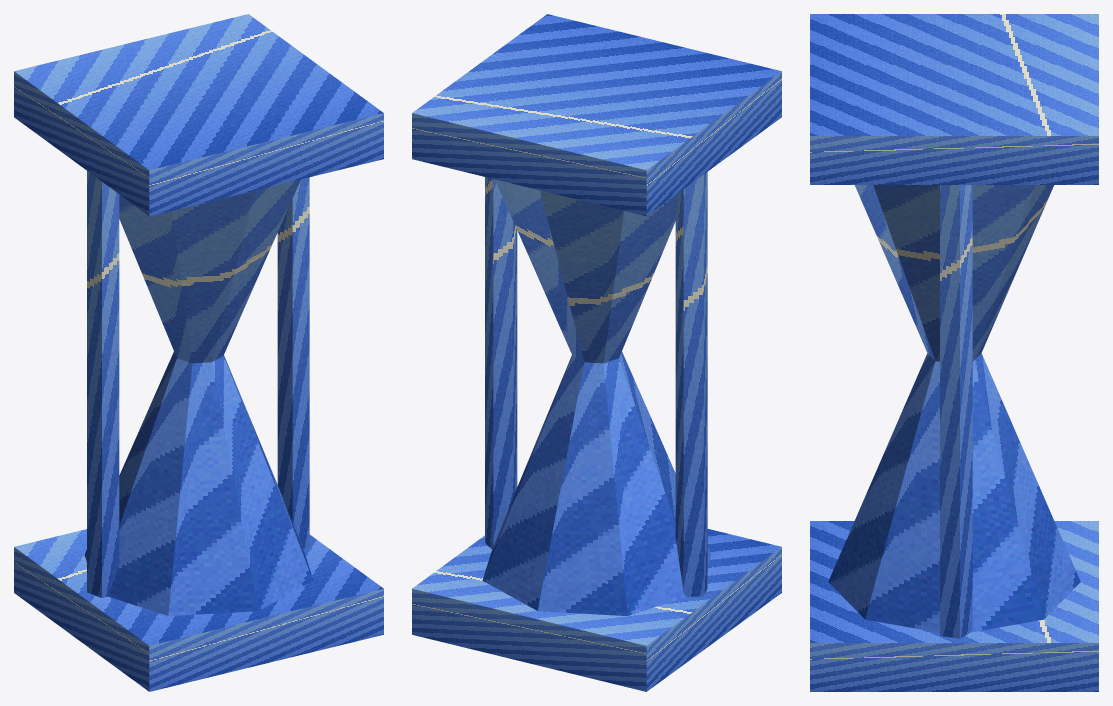
The model's file is reliquia_sagrada_07.glb.
3 views of the same model, side by side, from view 1: azimuth 30°, elevation 25°; view 2: azimuth 150°, elevation 25°; view 3: azimuth 270°, elevation 25° (orthographic). The views are drawn at different scales.
Visible parts, largest first — view 1: reliquia_sagrada_07; view 2: reliquia_sagrada_07; view 3: reliquia_sagrada_07.
Part boxes in pixels (left/top/right/bottom): reliquia_sagrada_07: left=14, top=14, right=383, bottom=691; reliquia_sagrada_07: left=412, top=14, right=781, bottom=691; reliquia_sagrada_07: left=810, top=14, right=1098, bottom=691.
Size of the model in its own units: 0.32 by 0.68 by 0.32.
Materials: 1 (1 with a texture image).
